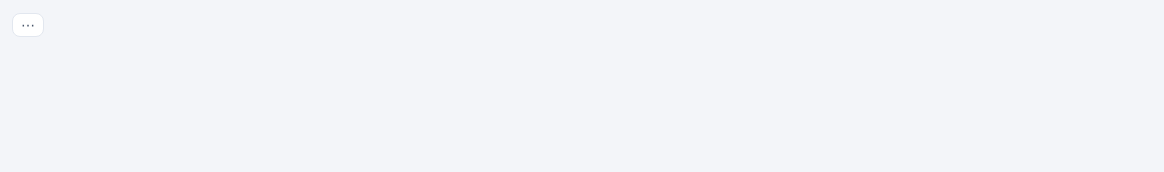
Test: MoreMenu › closes on Escape, outside clicks and scrolling (never floats away from its button)
Later steps or results of the test are not shown.
Click the button named "More".
click(28, 25)  # box [12,13,44,37]
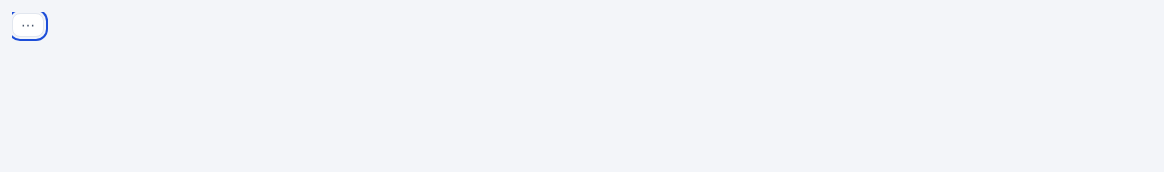
Click the button named "More".
click(28, 25)  # box [12,13,44,37]
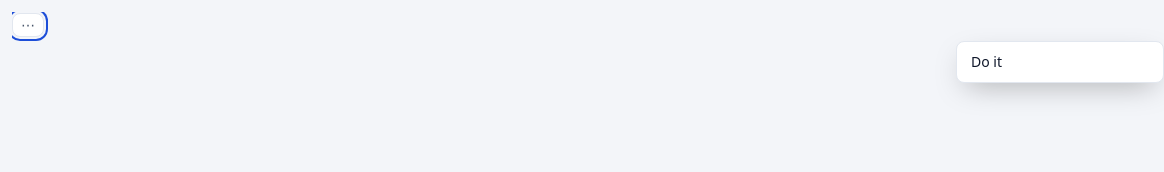
Press Escape
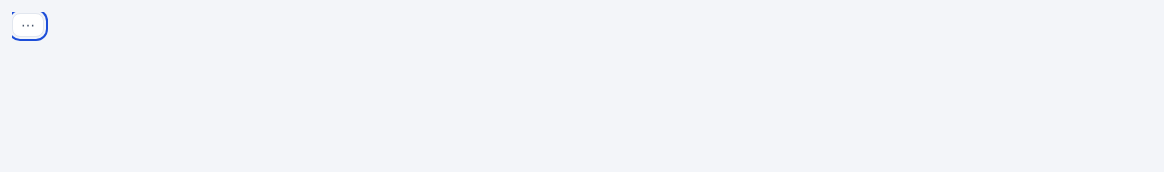
Check: the menu is gone
